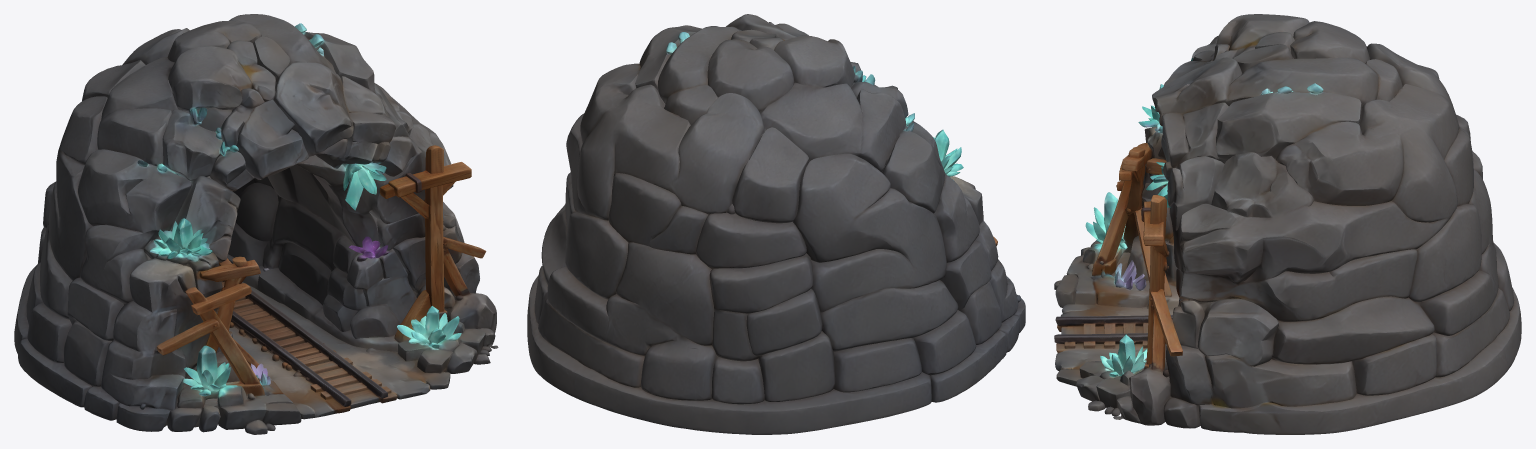
Rendered from cave-cartoon-source.glb.
3 renders of one model, left to right at view 1: azimuth 30°, elevation 25°; view 2: azimuth 150°, elevation 25°; view 3: azimuth 270°, elevation 25°, orthographic. The views are drawn at different scales.
Parts seen in each view (by area): view 1: model; view 2: model; view 3: model.
Part boxes in pixels (x1,y1,x2,y2): model: [14, 14, 498, 434]; model: [527, 14, 1025, 434]; model: [1054, 14, 1521, 434].
Size of the model in its own units: 1.9 by 1.3 by 1.82.
1 material, 1 textured.
